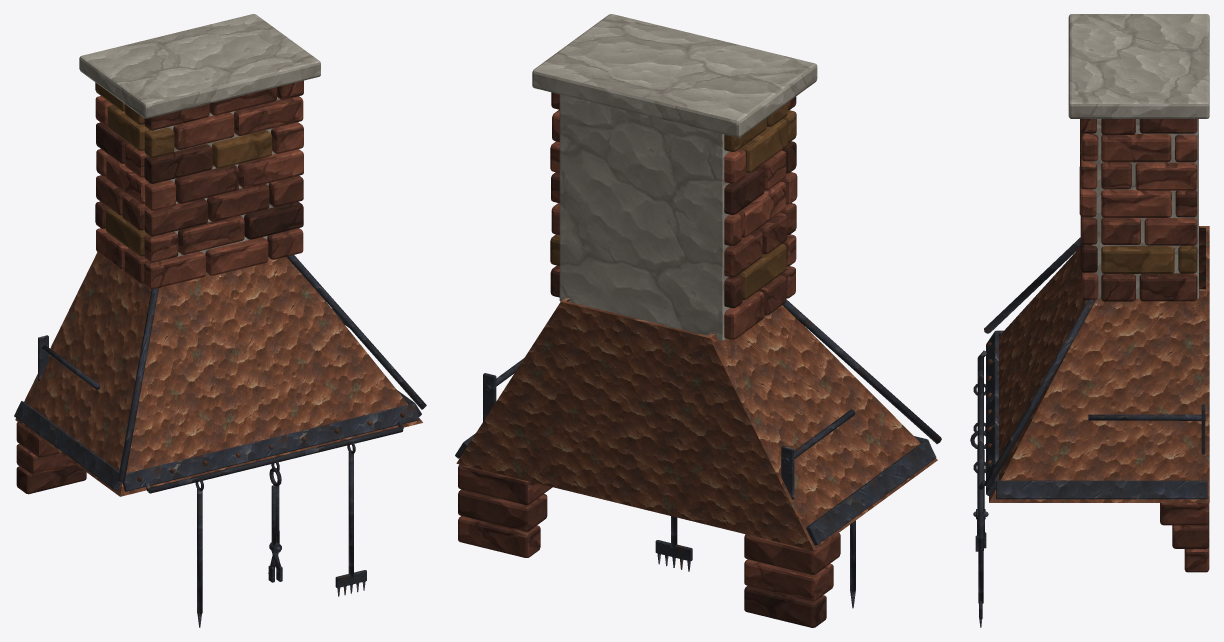
Rendered from ef_chimney_hood.glb.
3 renders of one model, left to right at view 1: azimuth 30°, elevation 25°; view 2: azimuth 150°, elevation 25°; view 3: azimuth 270°, elevation 25°, orthographic. The views are drawn at different scales.
Visible parts, largest first — view 1: model; view 2: model; view 3: model.
Part boxes in pixels (bbox=[...]): model: bbox=[14, 14, 426, 627]; model: bbox=[455, 14, 941, 627]; model: bbox=[970, 14, 1209, 627].
Bounding box in the file's own units: 1.22 × 1.88 × 0.781.
Materials: 12 (12 with a texture image).
